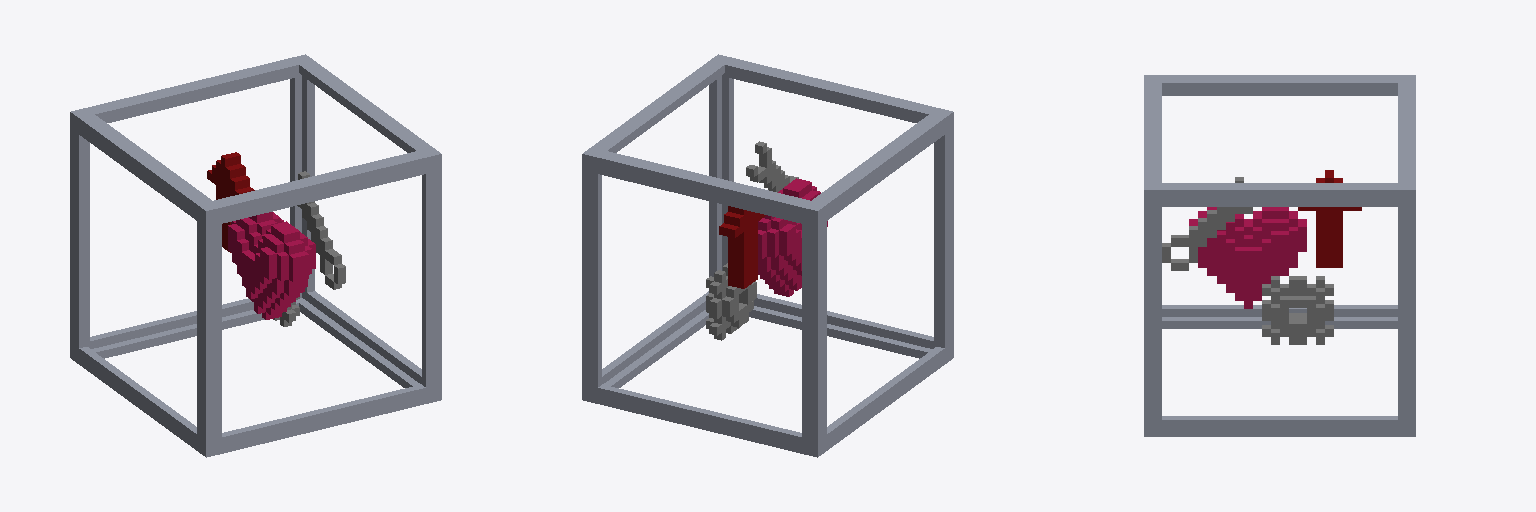
3 views of the same model, side by side, from view 1: azimuth 30°, elevation 25°; view 2: azimuth 150°, elevation 25°; view 3: azimuth 270°, elevation 25° (orthographic).
Visible parts, largest first — view 1: object 1; view 2: object 1; view 3: object 1.
Part boxes in pixels (bbox=[...]): object 1: bbox=[70, 54, 441, 457]; object 1: bbox=[582, 54, 953, 457]; object 1: bbox=[1144, 75, 1415, 436].
Size of the model in its own units: 3 by 3 by 3.
1 materials, 1 textured.